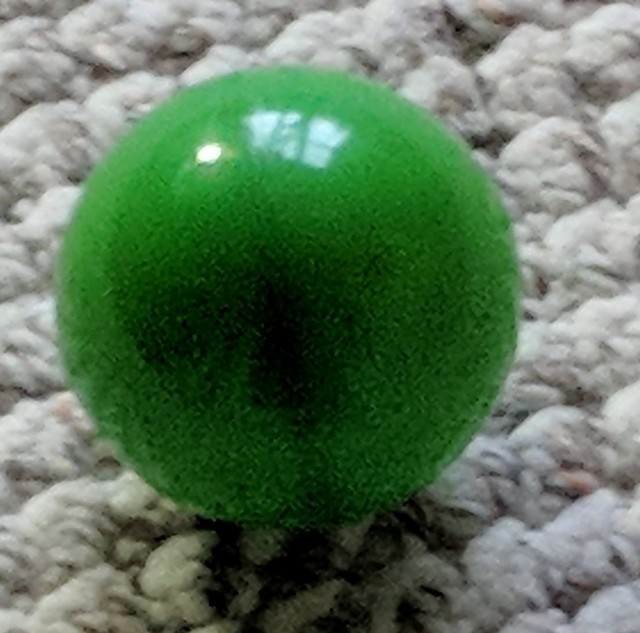Ball: (57, 65, 526, 516)
